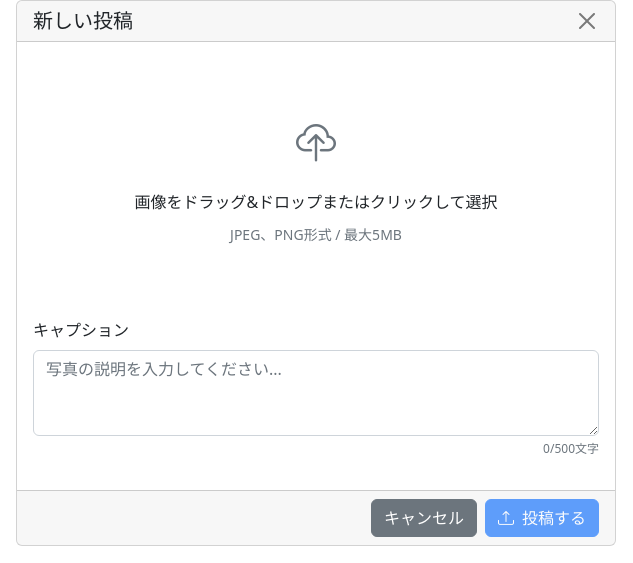
Test: UploadForm › キャプション入力 › キャプションを入力できる
Type "テストキャプション" into the text box labelled "キャプション" at [316, 393], box [33, 350, 599, 436]
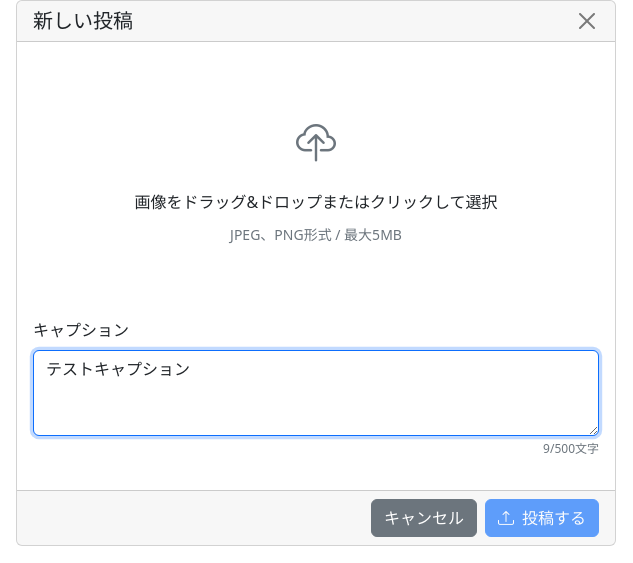
Expected: the text "9/500文字" is shown, [543, 440, 599, 457]
